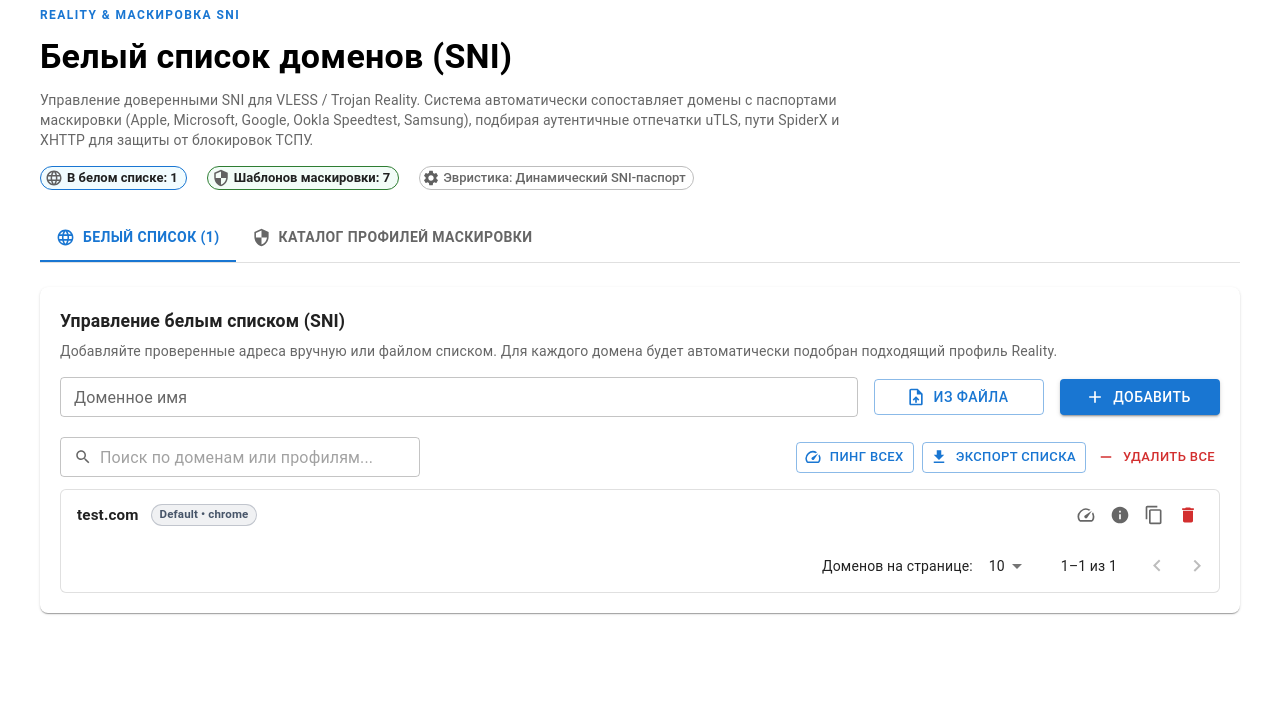
Test: DomainsPage › Удаление всех доменов › должен закрывать диалог при клике на "Отмена"
This screenshot has width=1280, height=720.
Click the button "Удалить все" at (1157, 457), box [1094,442,1220,473]
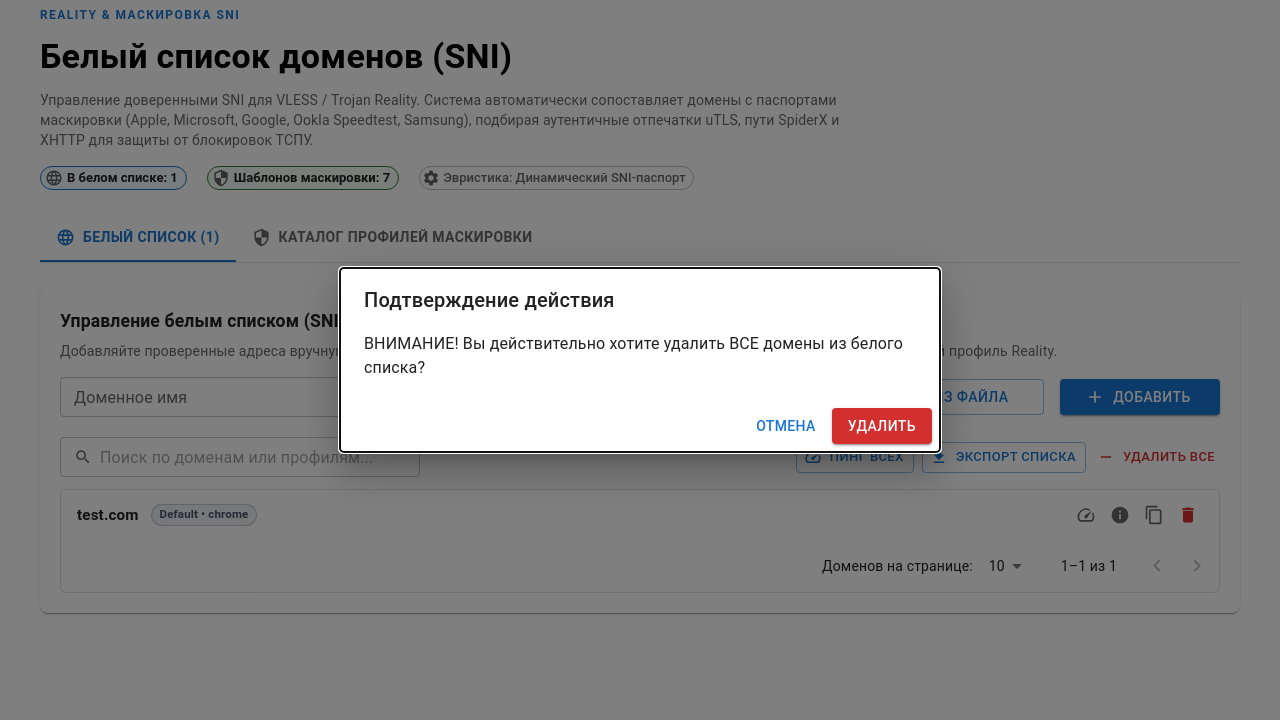
Click the button "Отмена" at (786, 426), box [748,408,824,444]
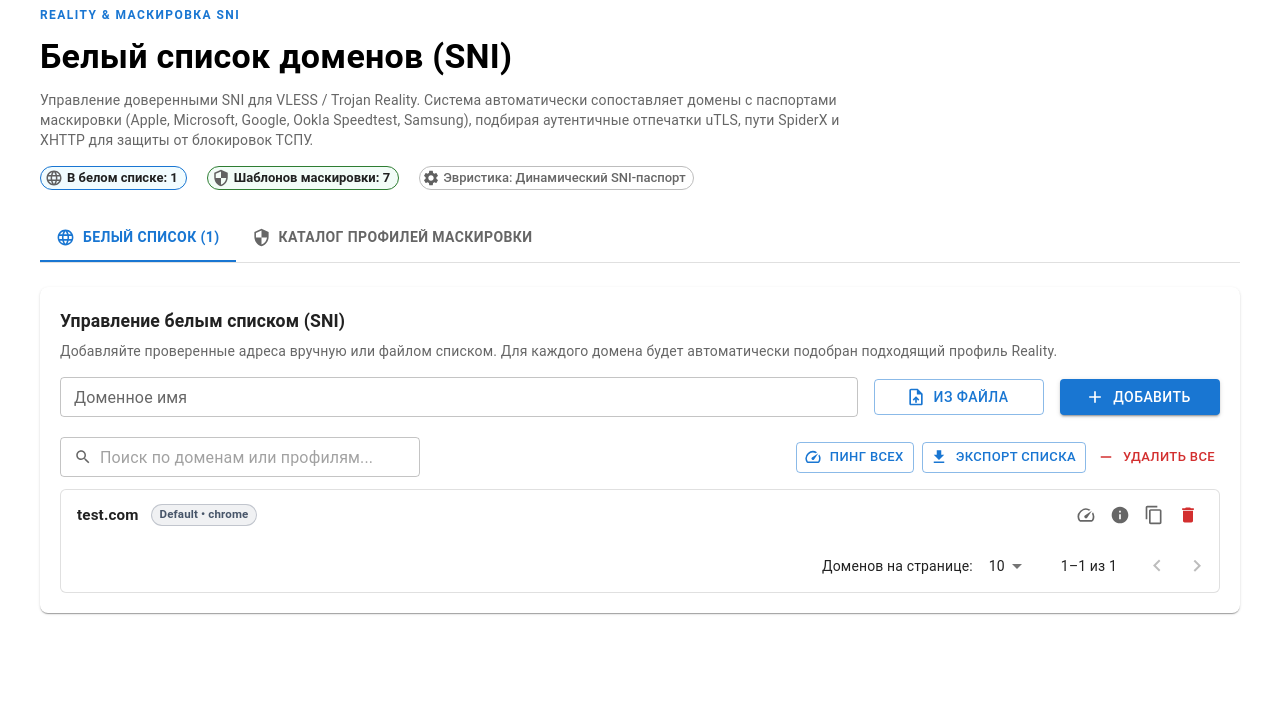
Expected: the dialog is gone
